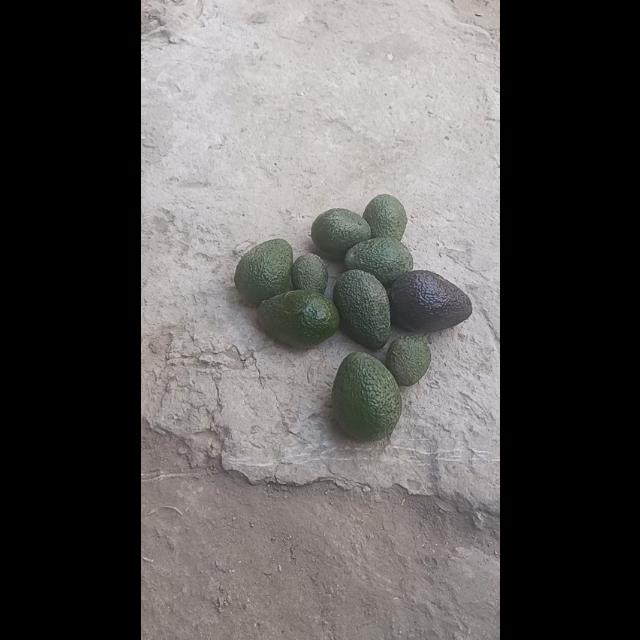Primera: (331, 350, 401, 440), (388, 270, 472, 332), (256, 288, 338, 346), (332, 268, 391, 348), (232, 238, 294, 308), (344, 237, 412, 287)
Segunda: (309, 208, 371, 260), (361, 193, 407, 241)
Tercera: (384, 334, 431, 386), (290, 252, 328, 294)
